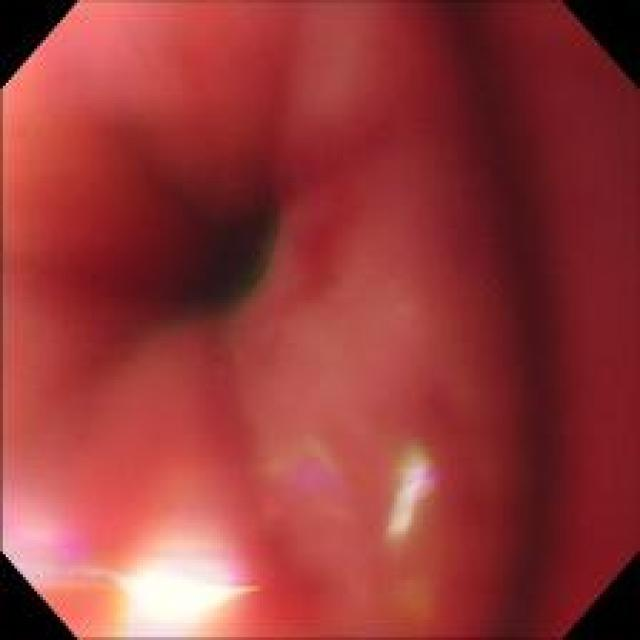blur: (1, 1, 635, 636)
color misalignment: (440, 9, 559, 619), (2, 505, 98, 596), (130, 531, 256, 595), (266, 435, 345, 520), (386, 444, 442, 544)
contrast: (136, 176, 290, 361)
saturation: (124, 560, 240, 620)
